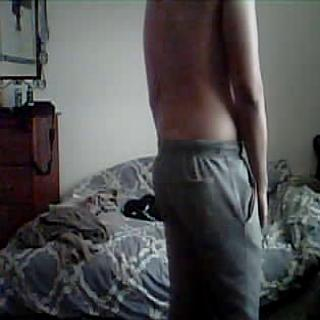Gray Sweatpants: (150, 141, 271, 320)
